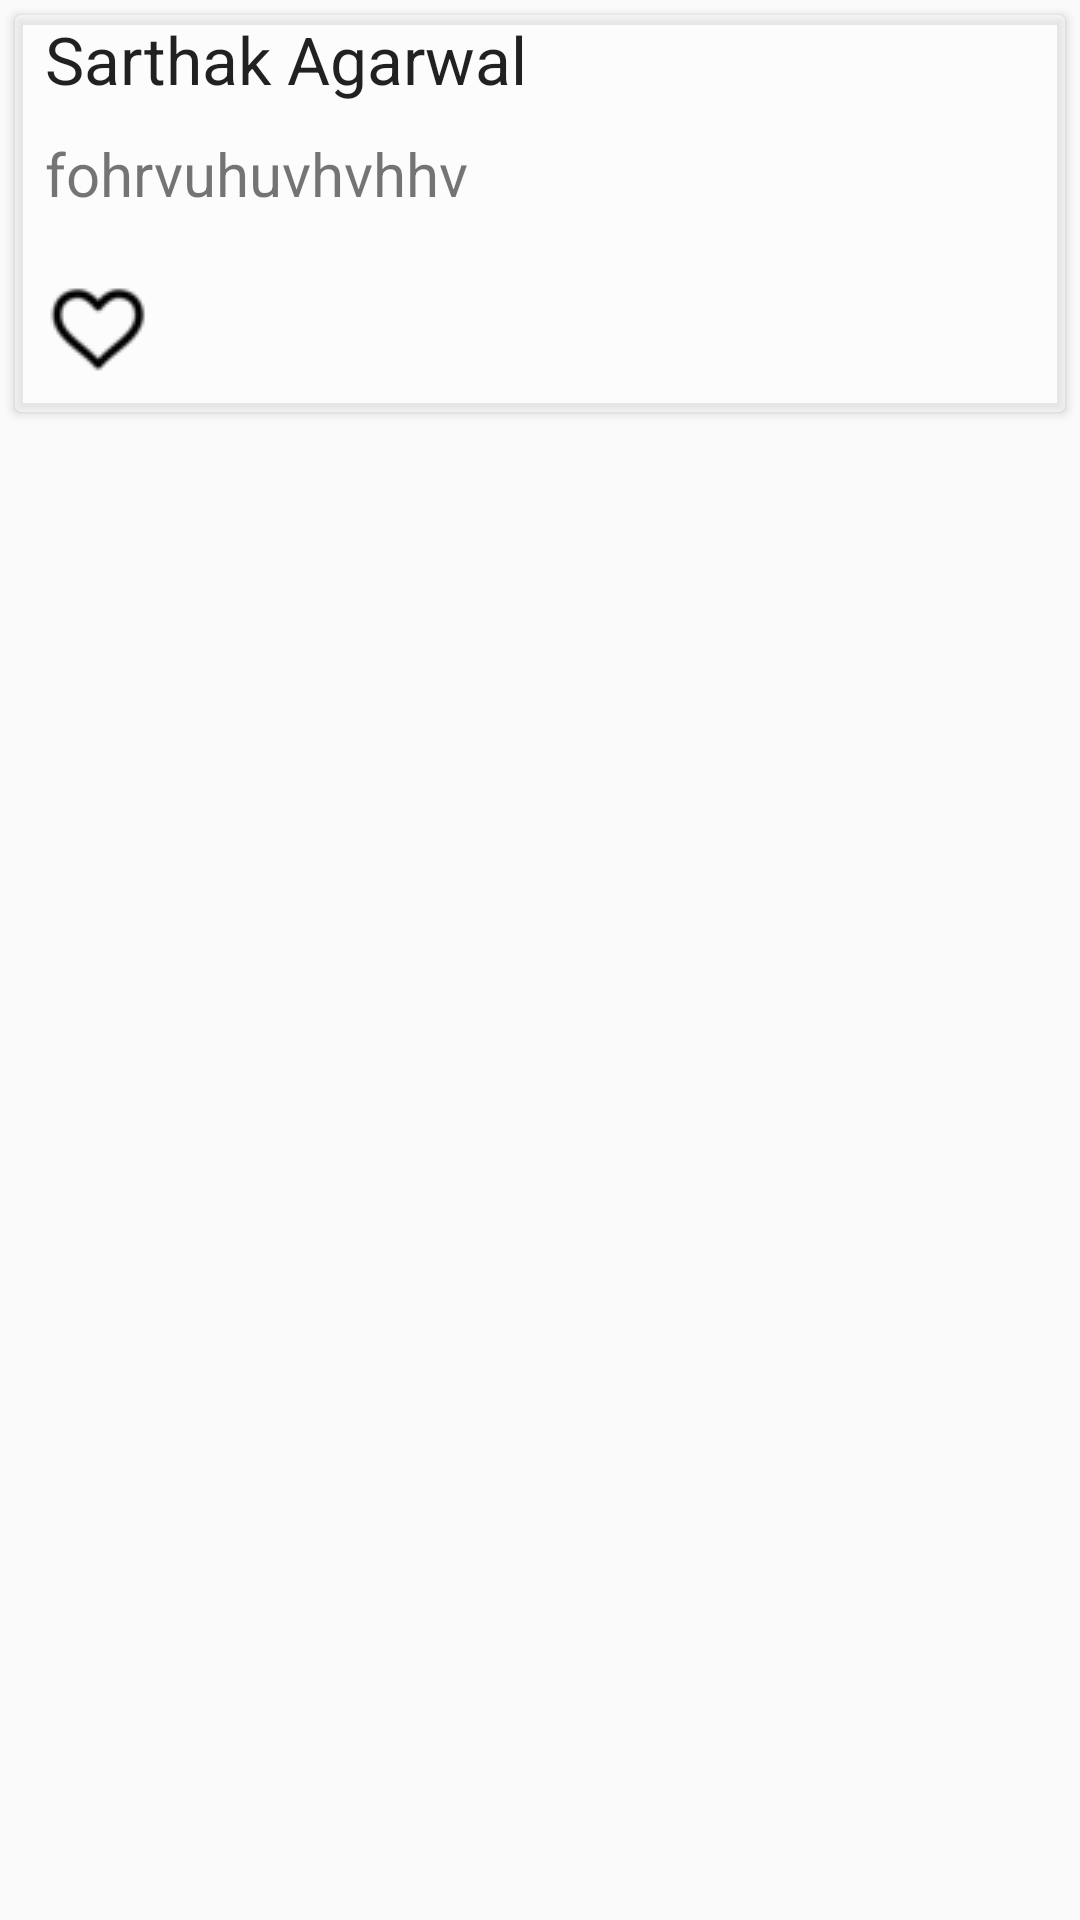

Named icons in this screenshot (1080×1920) and their centers, point (x, y):
unlike heart: point (97, 329)
